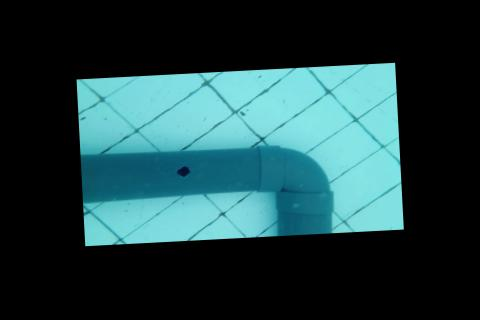kebocoran: (174, 164, 191, 179)
